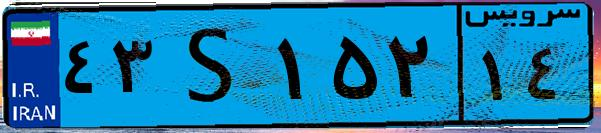1: (270, 28, 330, 110), (475, 38, 525, 113)
2: (385, 28, 445, 110)
3: (110, 28, 158, 98)
4: (57, 26, 110, 100), (525, 38, 570, 115)
5: (330, 28, 385, 110)
S: (158, 12, 270, 120)
